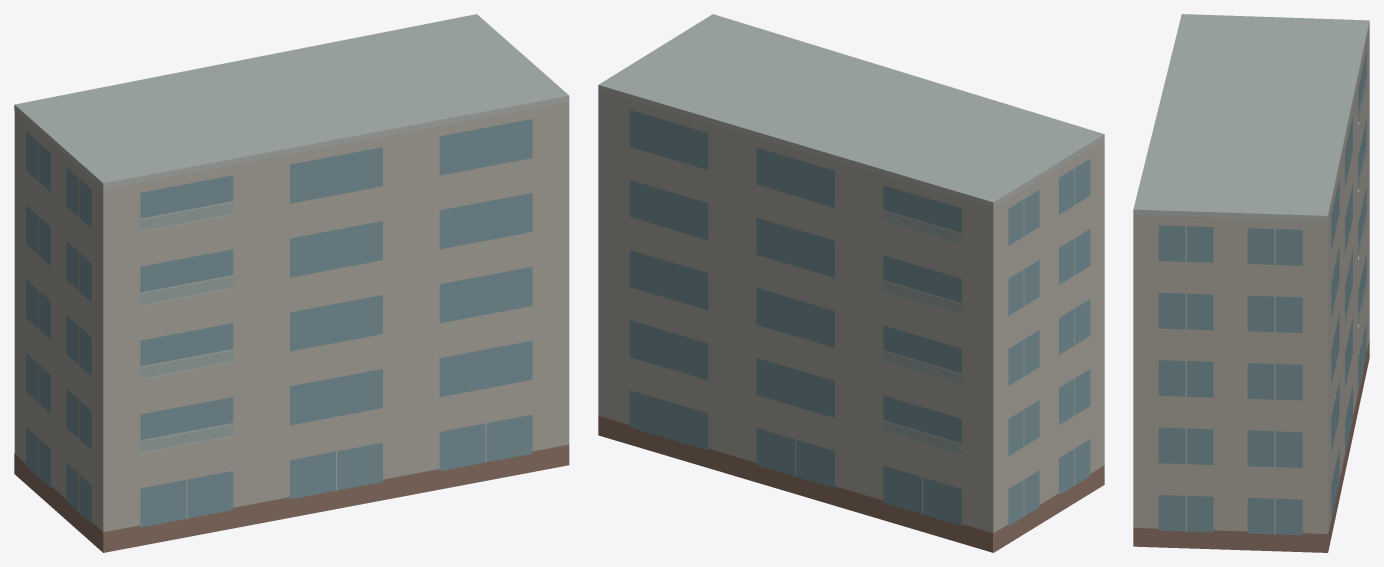
The model's file is survey-upis-32922956.glb.
3 views of the same model, side by side, from view 1: azimuth 30°, elevation 25°; view 2: azimuth 150°, elevation 25°; view 3: azimuth 270°, elevation 25° (orthographic). The views are drawn at different scales.
Parts seen in each view (by area): view 1: survey-upis-32922956.tmp; view 2: survey-upis-32922956.tmp; view 3: survey-upis-32922956.tmp.
Boxes of the visible parts, left/top/right/bottom form: survey-upis-32922956.tmp: left=14, top=14, right=569, bottom=552; survey-upis-32922956.tmp: left=598, top=14, right=1104, bottom=552; survey-upis-32922956.tmp: left=1133, top=14, right=1369, bottom=552.
Bounding box in the file's own units: 19.61 × 15.25 × 9.71.
